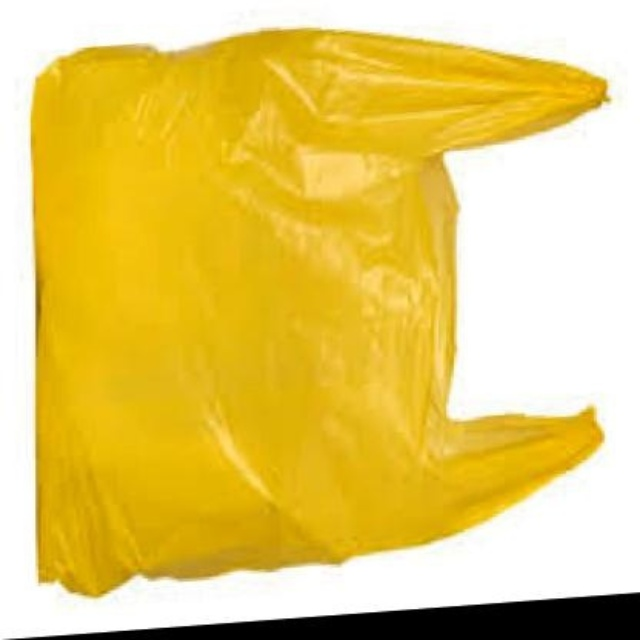trash: (32, 29, 605, 594)
